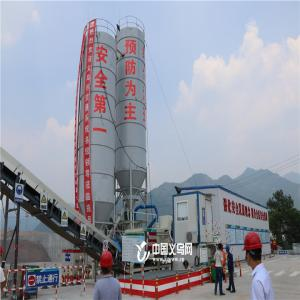blue: (226, 245, 231, 254)
none: (218, 244, 224, 252)
red: (243, 231, 266, 269), (100, 252, 114, 275)
